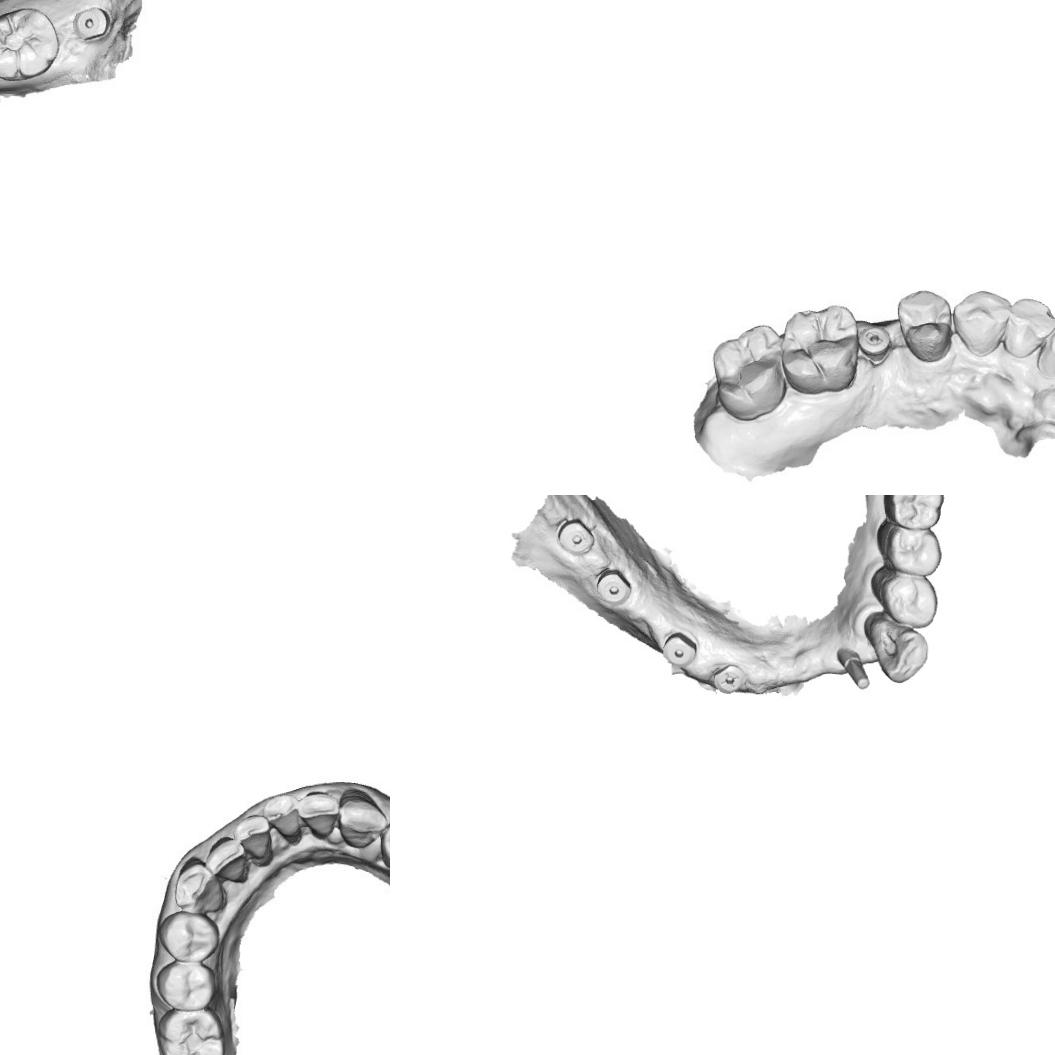abutment: (836, 644, 871, 694)
canine: (948, 282, 1010, 363), (865, 614, 932, 684), (337, 788, 388, 850), (173, 856, 228, 913)
implant: (73, 0, 117, 49), (556, 516, 596, 558), (594, 567, 632, 609), (661, 630, 698, 668)
implant_minus: (858, 324, 896, 362)
implant_plus: (708, 662, 748, 694)
incisor: (1002, 293, 1055, 360), (232, 814, 274, 867), (204, 836, 250, 884), (262, 792, 302, 846), (296, 791, 340, 839), (1035, 316, 1055, 384)
molar: (710, 322, 790, 422), (780, 296, 858, 398), (0, 7, 59, 79), (156, 1006, 226, 1055), (882, 495, 945, 531)
premolar: (895, 287, 955, 364), (870, 564, 940, 629), (875, 518, 943, 577), (158, 909, 220, 963), (156, 960, 218, 1012), (378, 811, 390, 874)
